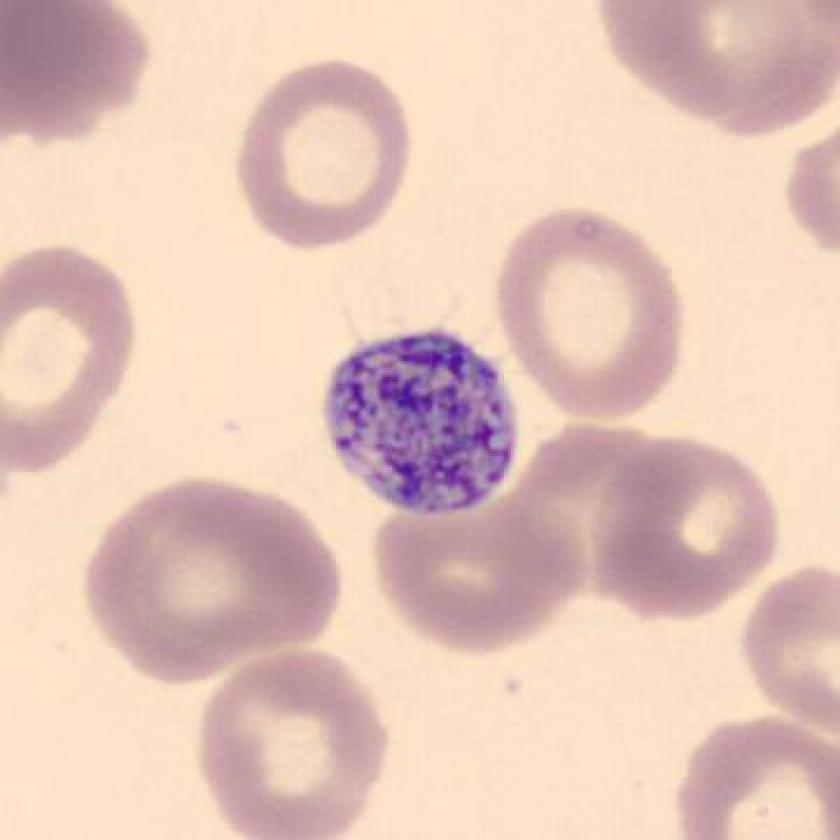platelets: (321, 323, 524, 526)
